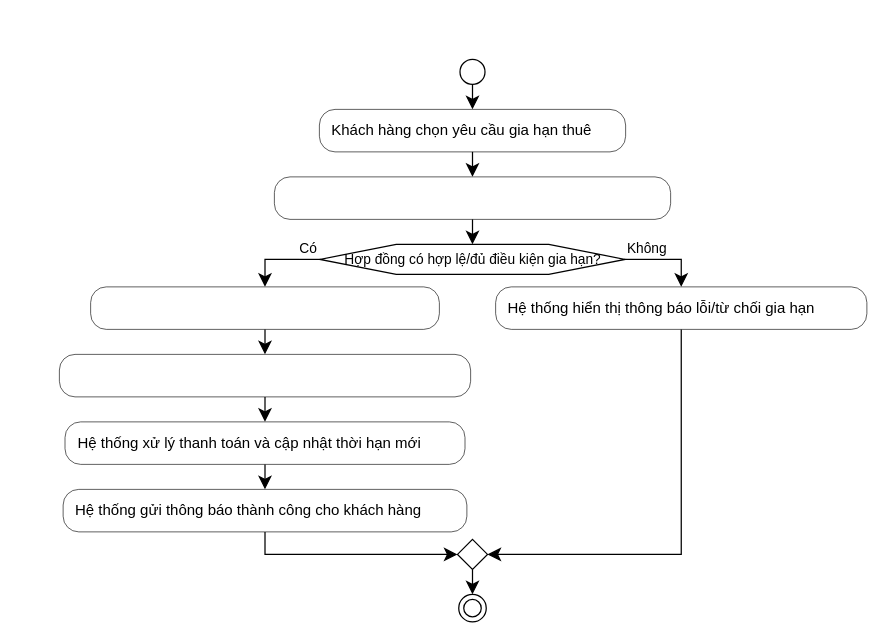
Some shapes in this 889 by 644 pixel diagram are drawn without their labels. The centre of each missing label's shape, as x and y in pixels:
"Hệ thống hiển thị các gói gia hạn và chi phí" goes at pixel 264 307.
"Hệ thống kiểm tra thông tin hợp đồng thuê hiện tại" goes at pixel 472 197.
"Khách hàng chọn gói gia hạn và xác nhận thanh toán" goes at pixel 264 375.
